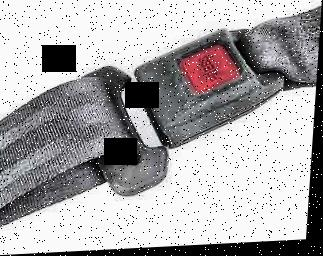seatbelt: (0, 7, 317, 215)
